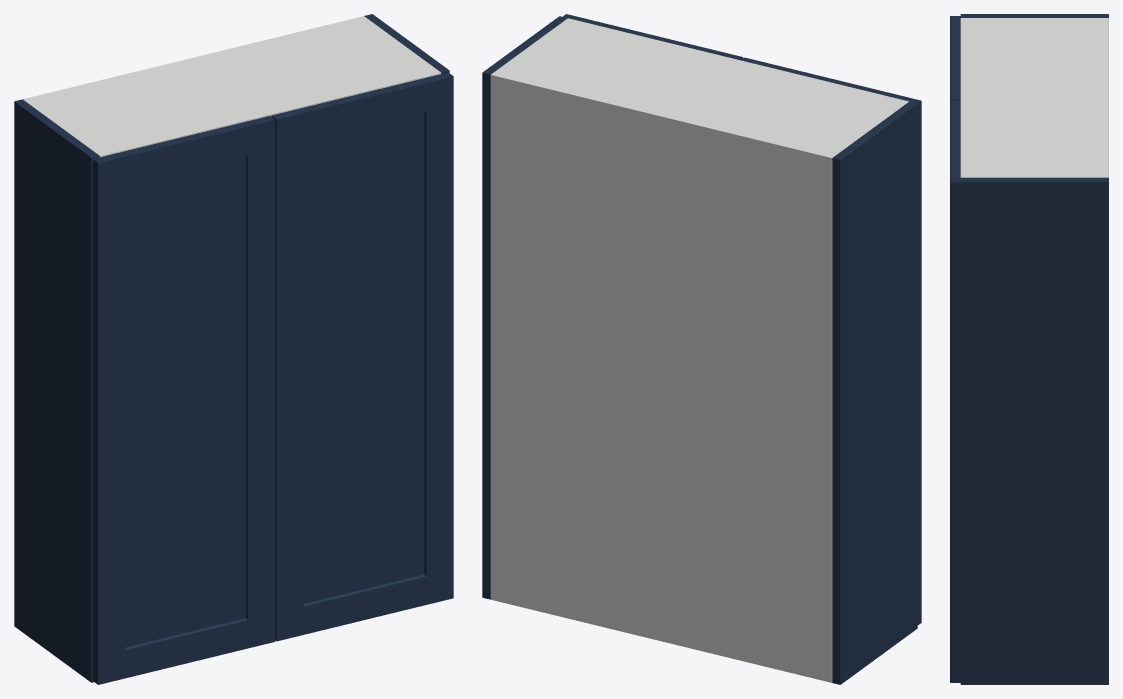
The model's file is oppein-pb-bss-w3042.glb.
The picture shows the model from 3 angles, left to right: view 1: azimuth 30°, elevation 25°; view 2: azimuth 150°, elevation 25°; view 3: azimuth 270°, elevation 25°; orthographic projection. The views are drawn at different scales.
Parts seen in each view (by area): view 1: Door, Door.001, Cabinet side, Cabinet top, Cabinet side.001; view 2: Cabinet back, Cabinet side, Cabinet top, Cabinet side.001, Door, Cabinet bottom, Door.001; view 3: Cabinet side.001, Cabinet top, Door.001, Door, Cabinet side.
Boxes of the visible parts, box(x1,y1,x2,y2) form: Door: box(93, 116, 275, 684); Door.001: box(271, 72, 453, 641); Cabinet side: box(14, 99, 99, 682); Cabinet top: box(23, 16, 441, 157); Cabinet side.001: box(364, 14, 449, 73); Cabinet back: box(490, 75, 832, 681); Cabinet side: box(832, 101, 917, 684); Cabinet top: box(490, 18, 908, 165); Cabinet side.001: box(482, 16, 567, 599); Door: box(741, 57, 921, 625); Cabinet bottom: box(490, 591, 832, 682); Door.001: box(562, 14, 743, 60); Cabinet side.001: box(960, 177, 1108, 684); Cabinet top: box(960, 18, 1108, 177); Door.001: box(950, 99, 960, 682); Door: box(950, 16, 960, 99); Cabinet side: box(960, 14, 1108, 17).
Bounding box in the file's own units: 0.762 × 1.07 × 0.3048.
